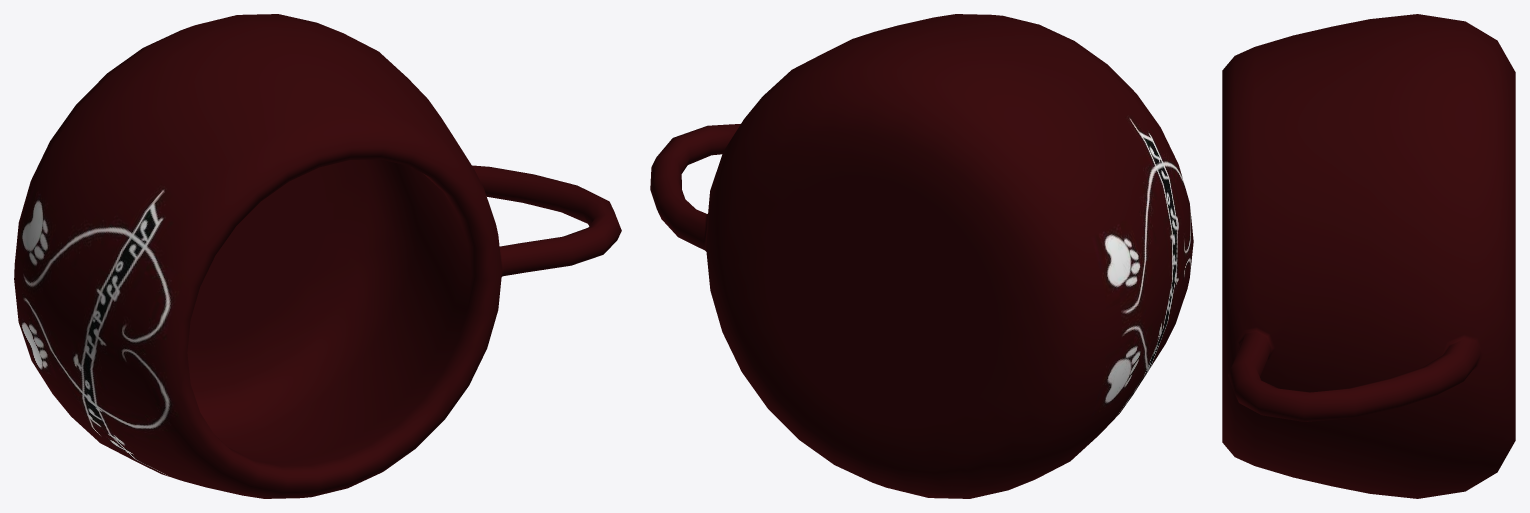
3 views of the same model, side by side, from view 1: azimuth 30°, elevation 25°; view 2: azimuth 150°, elevation 25°; view 3: azimuth 270°, elevation 25° (orthographic).
Bounding box in the file's own units: 1 × 0.7863 × 0.4766.
1 material, 1 textured.
